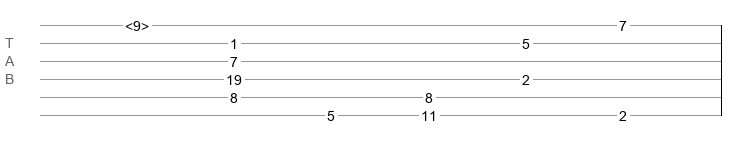1: (230, 36, 238, 46)
11: (421, 108, 437, 118)
19: (226, 72, 242, 82)
2: (522, 72, 530, 82), (619, 108, 627, 118)
5: (327, 108, 335, 118), (522, 36, 530, 46)
7: (230, 54, 238, 64), (619, 18, 627, 28)
8: (230, 90, 238, 100), (425, 90, 433, 100)
harmonic: (125, 18, 149, 28)
